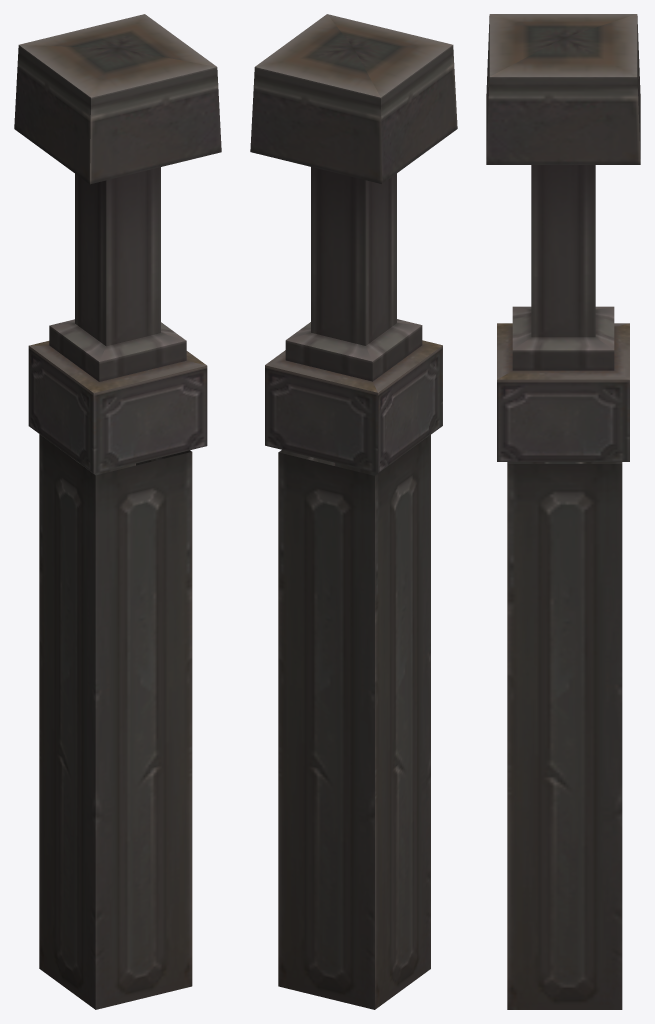
File: baobian_21.FBX
3 views of the same model, side by side, from view 1: azimuth 30°, elevation 25°; view 2: azimuth 150°, elevation 25°; view 3: azimuth 270°, elevation 25° (orthographic). The views are drawn at different scales.
Parts seen in each view (by area): view 1: 52060_02; view 2: 52060_02; view 3: 52060_02.
Boxes of the visible parts, <box> form: 52060_02: <box>14,14,221,1009</box>; 52060_02: <box>250,14,457,1009</box>; 52060_02: <box>486,14,640,1009</box>.
Size of the model in its own units: 153 by 1029 by 152.
